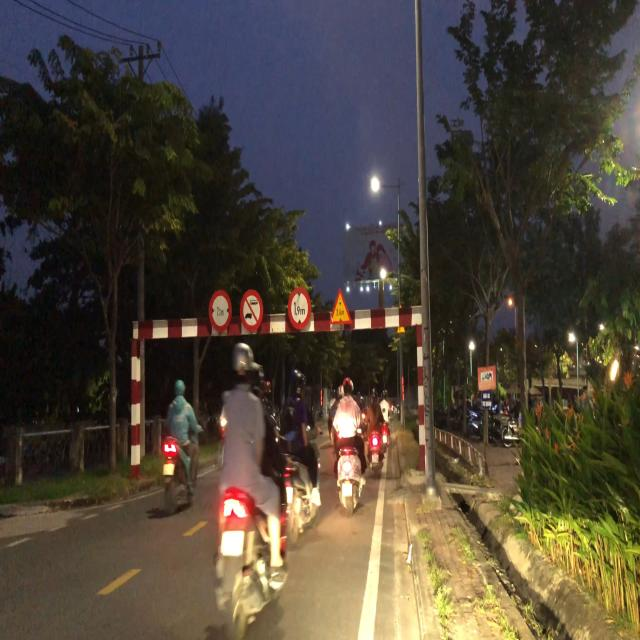Bien bao cam xe oto khach va xe oto tai: (237, 282, 265, 337)
Bien bao chieu cao tinh khong thuc te: (325, 280, 357, 333)
Bien bao han che chieu cao: (288, 284, 317, 336)
